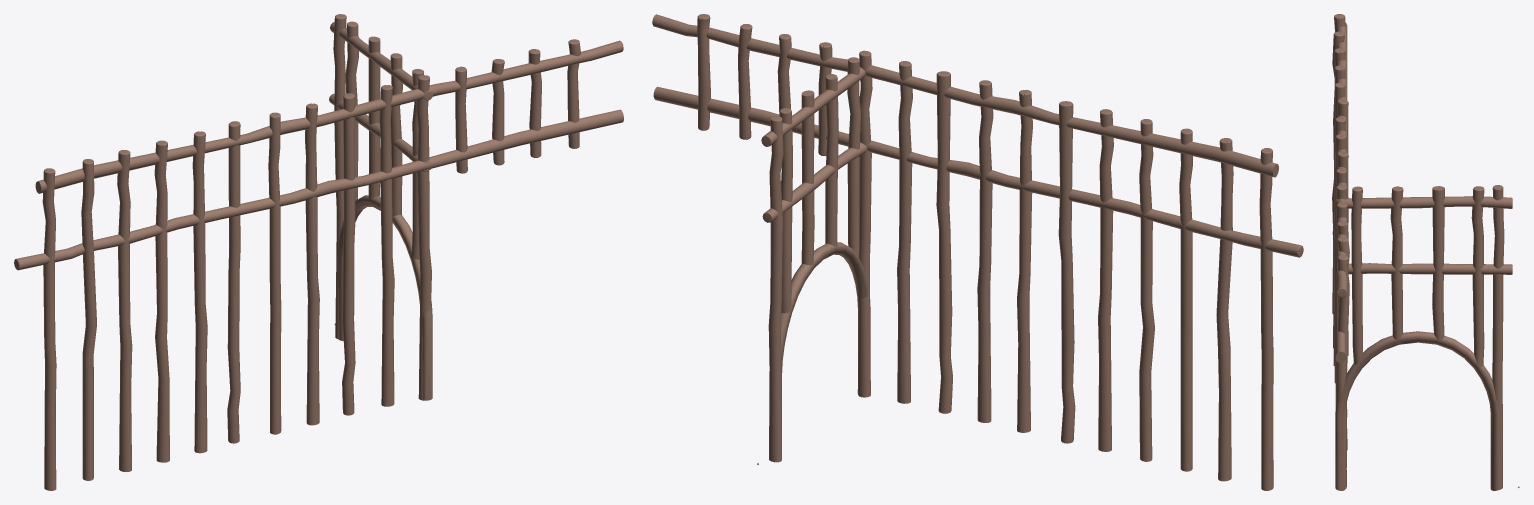
File: slaaphekken.fbx
The picture shows the model from 3 angles, left to right: view 1: azimuth 30°, elevation 25°; view 2: azimuth 150°, elevation 25°; view 3: azimuth 270°, elevation 25°; orthographic projection. The views are drawn at different scales.
Parts seen in each view (by area): view 1: polySurface106, polySurface107, polySurface100, polySurface93, polySurface92, polySurface91, polySurface98, polySurface96, polySurface90, polySurface89, polySurface105, polySurface97 (+10 smaller); view 2: polySurface107, polySurface106, polySurface100, polySurface105, polySurface97, polySurface96, polySurface98, polySurface108, polySurface93, polySurface91, polySurface90, polySurface92 (+10 smaller); view 3: polySurface104, polySurface108, polySurface114, polySurface113, polySurface112, polySurface115, polySurface111, polySurface110, polySurface100, polySurface107, polySurface99, polySurface106 (+10 smaller).
Part boxes in pixels (box(x1,y1,x2,y2)): polySurface106: box(14, 109, 623, 270); polySurface107: box(35, 40, 623, 193); polySurface100: box(455, 39, 580, 173); polySurface93: box(192, 131, 207, 453); polySurface92: box(154, 140, 169, 462); polySurface91: box(117, 150, 132, 471); polySurface98: box(379, 85, 394, 406); polySurface96: box(305, 103, 319, 425); polySurface90: box(81, 159, 96, 480); polySurface89: box(42, 168, 56, 490); polySurface105: box(227, 121, 240, 443); polySurface97: box(342, 93, 355, 415); polySurface107: box(652, 14, 1278, 177); polySurface106: box(653, 86, 1303, 257); polySurface100: box(697, 14, 832, 155); polySurface105: box(1058, 101, 1075, 443); polySurface97: box(936, 71, 952, 413); polySurface96: box(977, 80, 993, 422); polySurface98: box(897, 61, 912, 403); polySurface108: box(768, 116, 783, 462); polySurface93: box(1098, 109, 1113, 451); polySurface91: box(1179, 128, 1192, 471); polySurface90: box(1216, 138, 1233, 481); polySurface92: box(1139, 119, 1154, 461); polySurface104: box(1335, 331, 1498, 490); polySurface108: box(1492, 185, 1504, 490); polySurface114: box(1471, 186, 1484, 366); polySurface113: box(1351, 186, 1362, 364); polySurface112: box(1432, 186, 1444, 341); polySurface115: box(1390, 186, 1403, 342); polySurface111: box(1336, 196, 1512, 208); polySurface110: box(1348, 263, 1512, 274); polySurface100: box(1336, 202, 1349, 357); polySurface107: box(1335, 22, 1347, 297); polySurface99: box(1336, 185, 1347, 490); polySurface106: box(1335, 167, 1345, 362).
Bounding box in the file's own units: 590 × 300 × 169.
